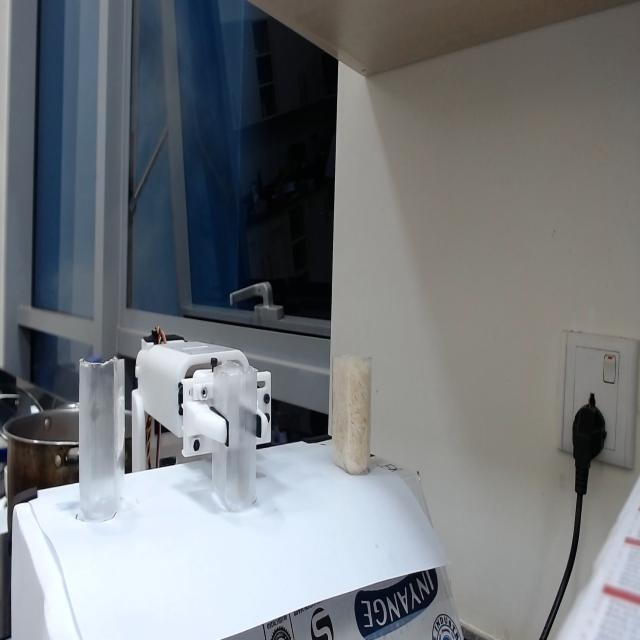raw_rice: (332, 356, 374, 475)
